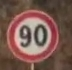limite 90: (5, 8, 60, 63)
